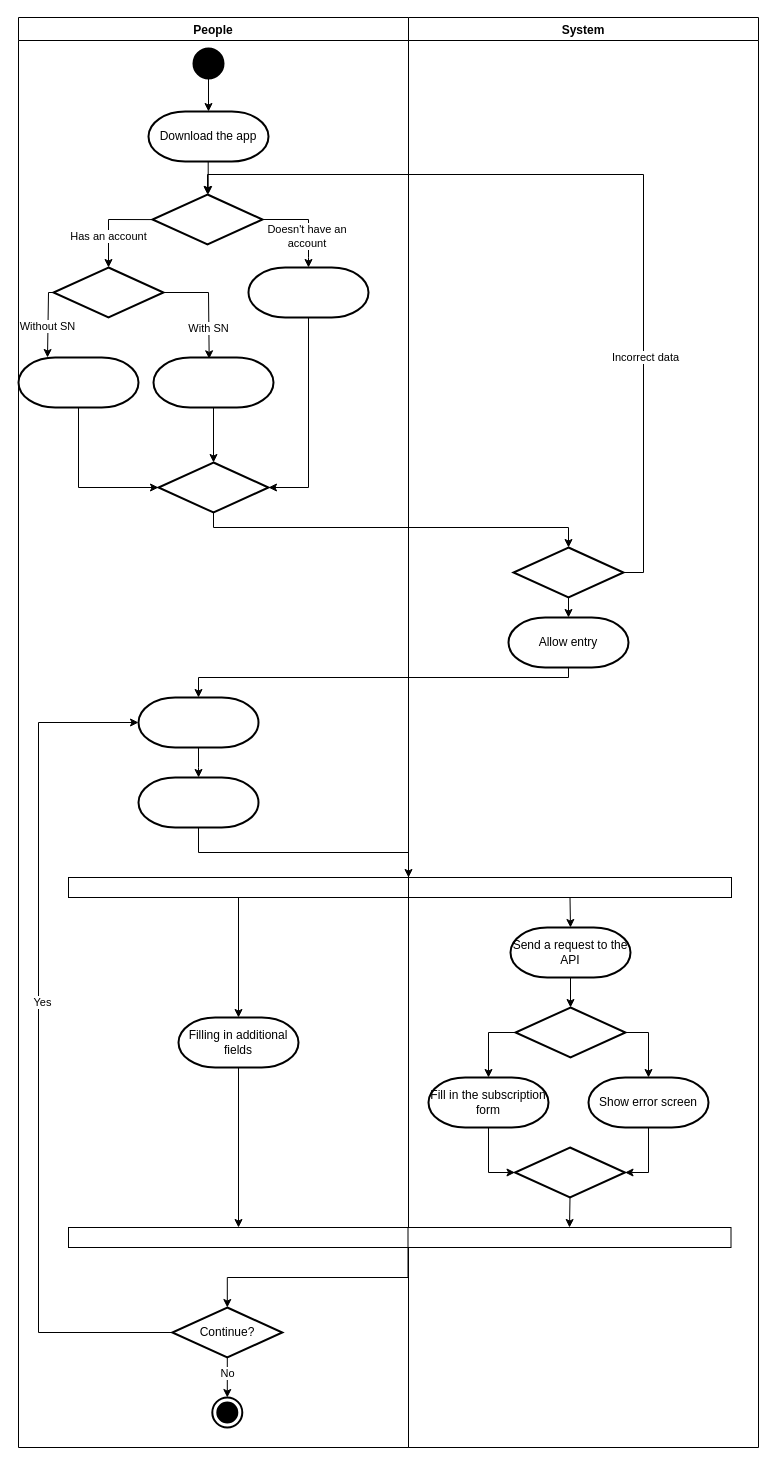
Some shapes in this 776 by 1465 pixel diagram are drawn without their labels. Here are the shapes that lost their labels. From the top down, the centre of each, then its label:
the point at 308,292: Sign Up
the point at 78,382: Log In
the point at 213,382: Log In with SN
the point at 198,722: Open the main screen
the point at 198,802: Add subscription with integrtion
